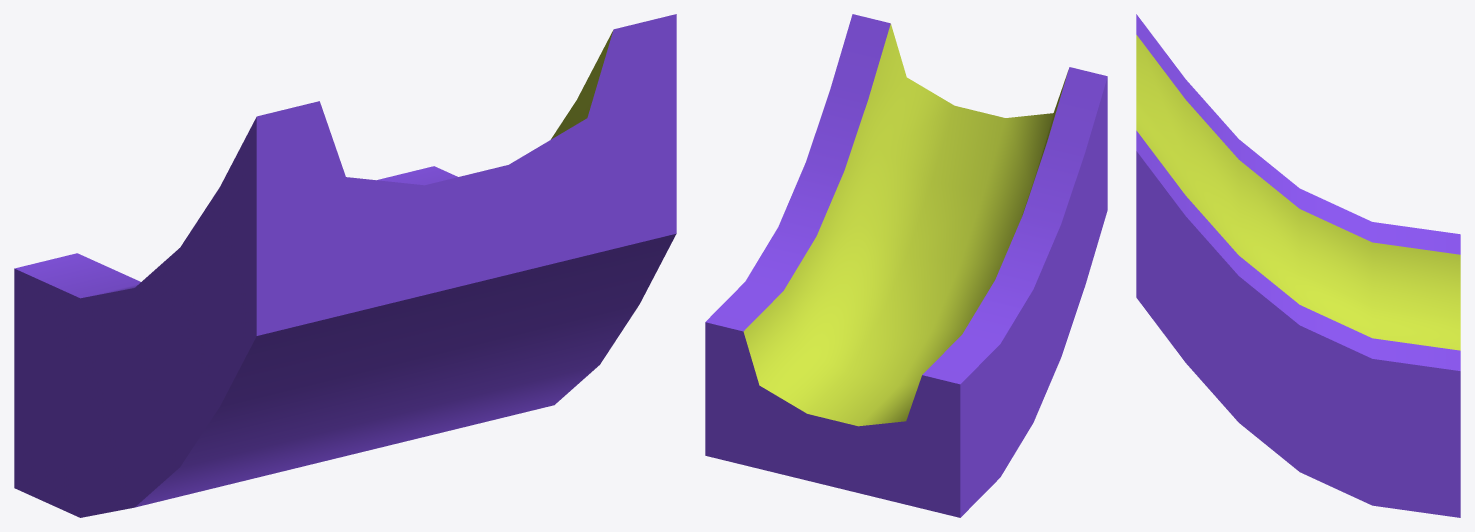
The model's file is rampStart_D.fbx.
3 views of the same model, side by side, from view 1: azimuth 30°, elevation 25°; view 2: azimuth 150°, elevation 25°; view 3: azimuth 270°, elevation 25° (orthographic). The views are drawn at different scales.
Parts seen in each view (by area): view 1: rampStart_D; view 2: rampStart_D; view 3: rampStart_D.
Boxes of the visible parts, x1,y1,x2,y2 form: rampStart_D: [14, 14, 676, 517]; rampStart_D: [705, 14, 1107, 517]; rampStart_D: [1136, 14, 1460, 517].
Bounding box in the file's own units: 10 × 12.5 × 10.
